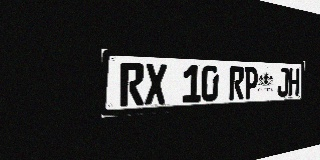0: (201, 65, 219, 102)
1: (182, 65, 201, 103)
H: (288, 68, 299, 97)
J: (277, 68, 289, 97)
P: (244, 67, 258, 99)
R: (120, 62, 144, 107), (229, 66, 244, 100)
X: (145, 63, 167, 105)
